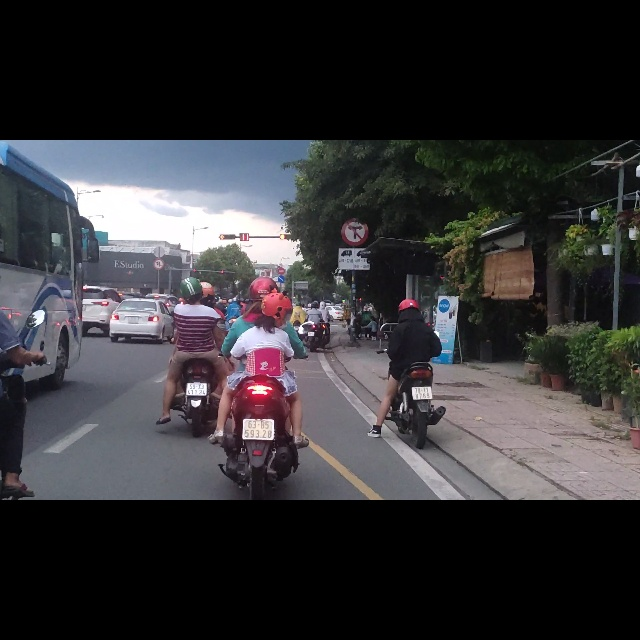bien_hieu_lenh: (341, 137, 369, 188), (153, 210, 164, 232), (277, 239, 285, 254), (277, 226, 285, 239)
